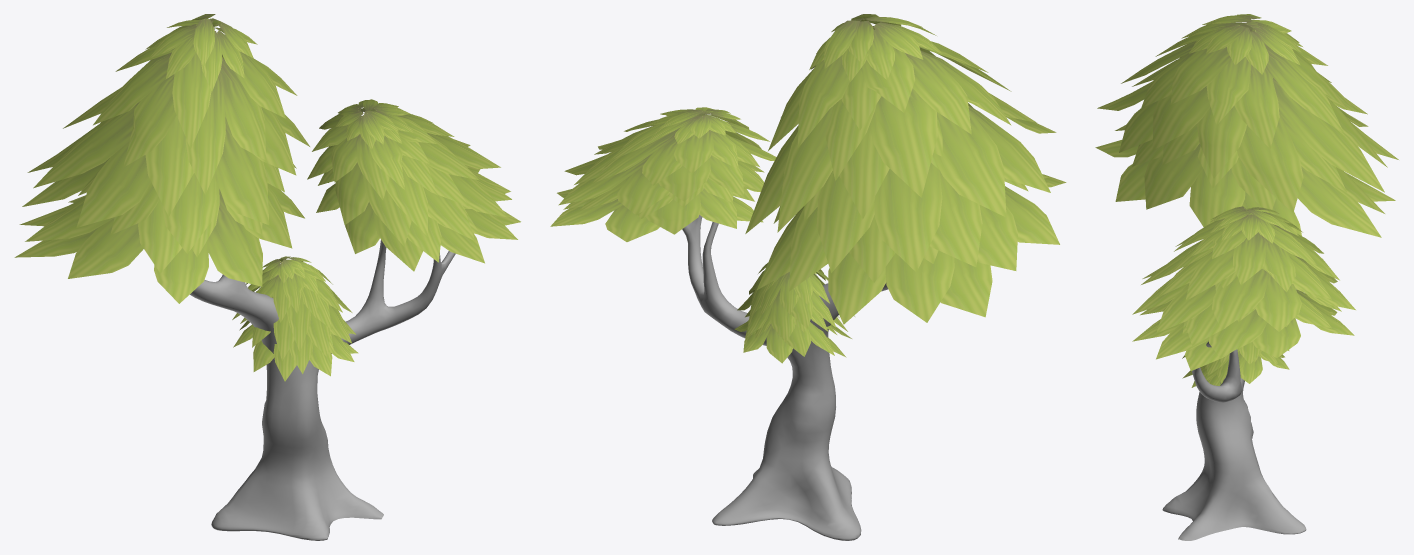
Rendered from tree2.fbx.
The picture shows the model from 3 angles, left to right: view 1: azimuth 30°, elevation 25°; view 2: azimuth 150°, elevation 25°; view 3: azimuth 270°, elevation 25°; orthographic projection. The views are drawn at different scales.
Visible parts, largest first — view 1: Arbre_1; view 2: Arbre_1; view 3: Arbre_1.
Part boxes in pixels (left/top/right/bottom): Arbre_1: left=14, top=14, right=520, bottom=540; Arbre_1: left=550, top=14, right=1066, bottom=540; Arbre_1: left=1095, top=14, right=1398, bottom=540.
Size of the model in its own units: 416 by 448 by 265.
